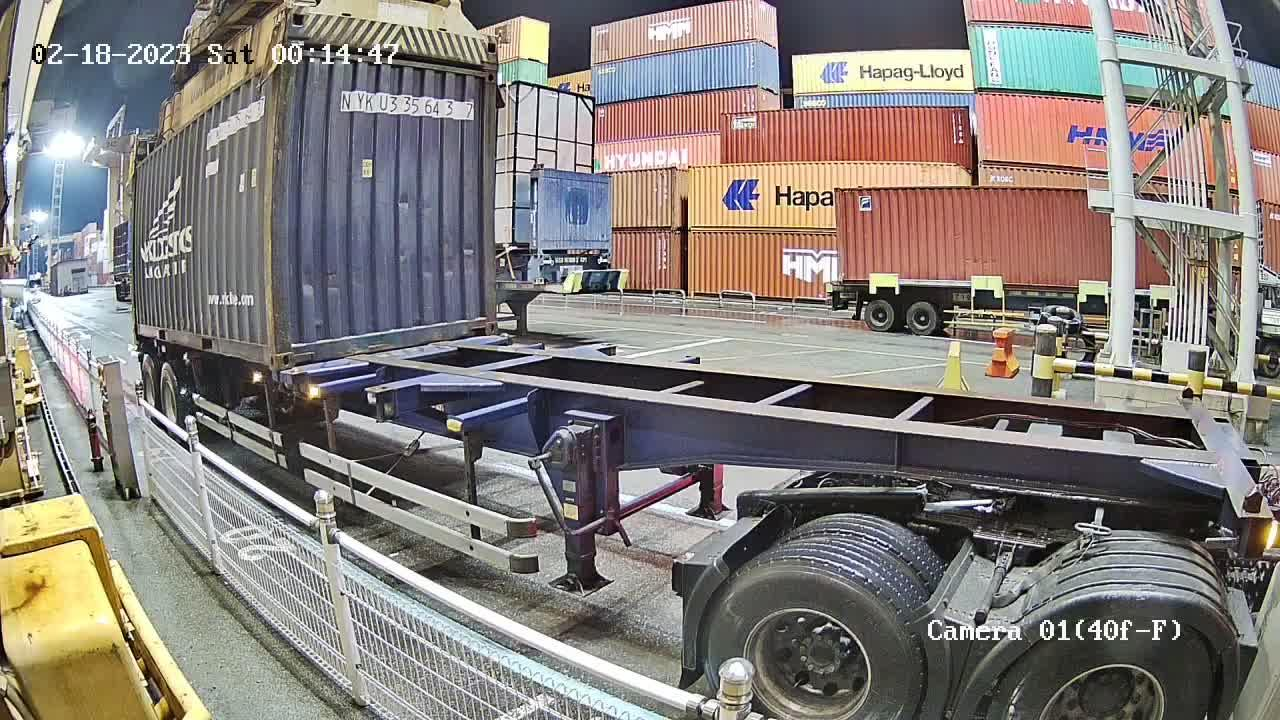Chassis: (288, 332, 514, 387)
Cone: (283, 367, 301, 393), (266, 367, 281, 393)
Hole_L: (276, 334, 310, 369), (471, 304, 500, 335)
Hole_R: (253, 334, 279, 369)
Tire: (158, 363, 183, 422), (140, 354, 158, 406)
